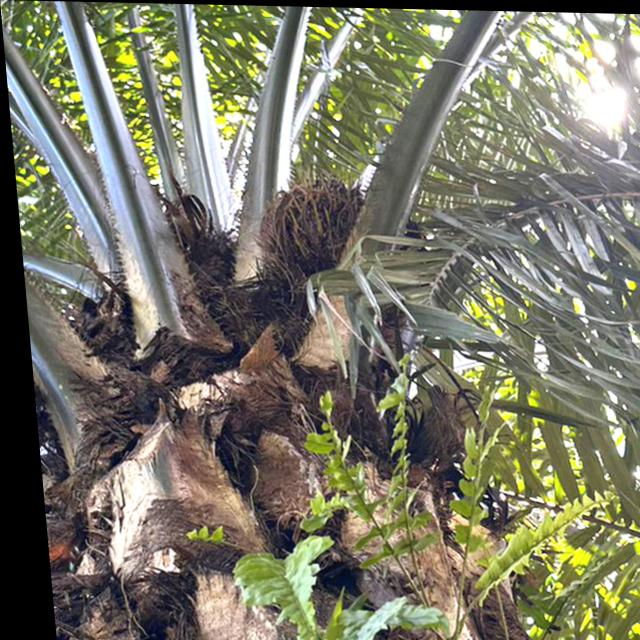unripe: (257, 171, 374, 273)
